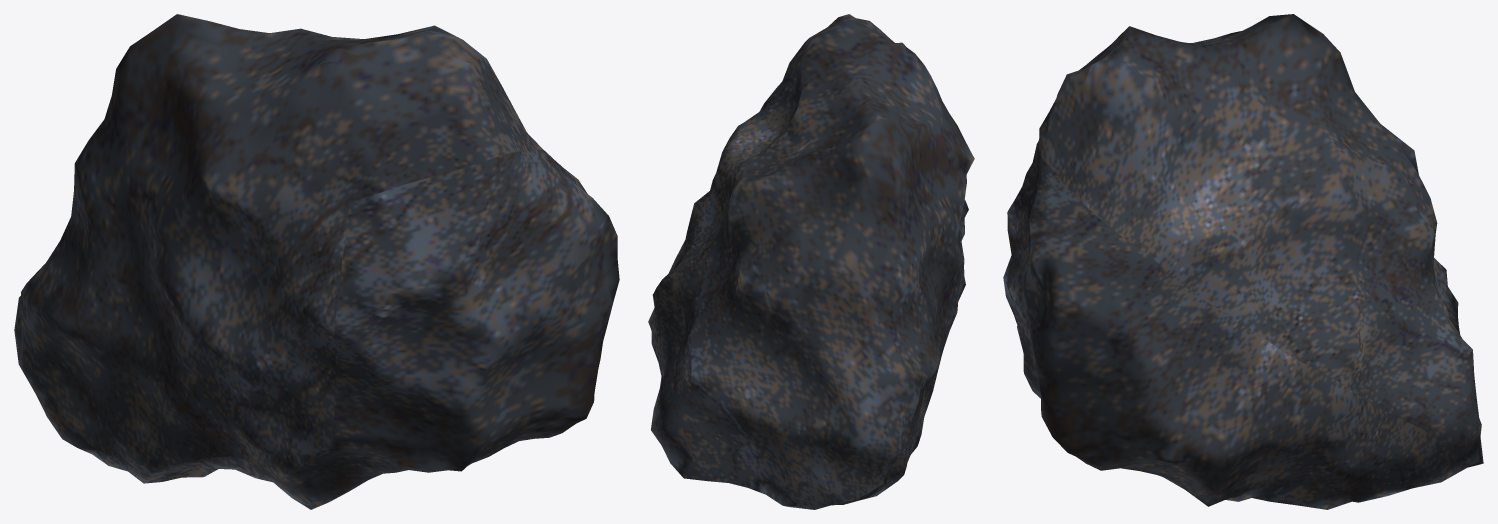
Rendered from SM_Rock_008.fbx.
The picture shows the model from 3 angles, left to right: view 1: azimuth 30°, elevation 25°; view 2: azimuth 150°, elevation 25°; view 3: azimuth 270°, elevation 25°; orthographic projection. The views are drawn at different scales.
Parts seen in each view (by area): view 1: rock; view 2: rock; view 3: rock.
Part boxes in pixels (box(x1,y1,x2,y2)): rock: box(14, 14, 619, 509); rock: box(648, 14, 974, 509); rock: box(1003, 14, 1483, 509).
Size of the model in its own units: 2.89 by 3.25 by 3.36.
